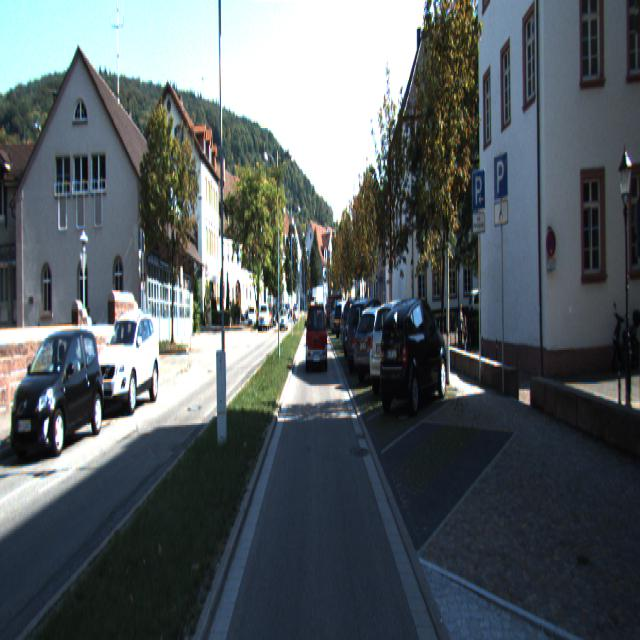Car: (9, 328, 107, 460), (377, 296, 448, 417), (93, 312, 161, 415), (368, 300, 436, 400), (351, 306, 408, 386), (345, 299, 394, 376), (340, 298, 381, 359), (306, 303, 328, 371), (326, 295, 348, 328), (259, 303, 270, 330), (279, 308, 288, 330)
